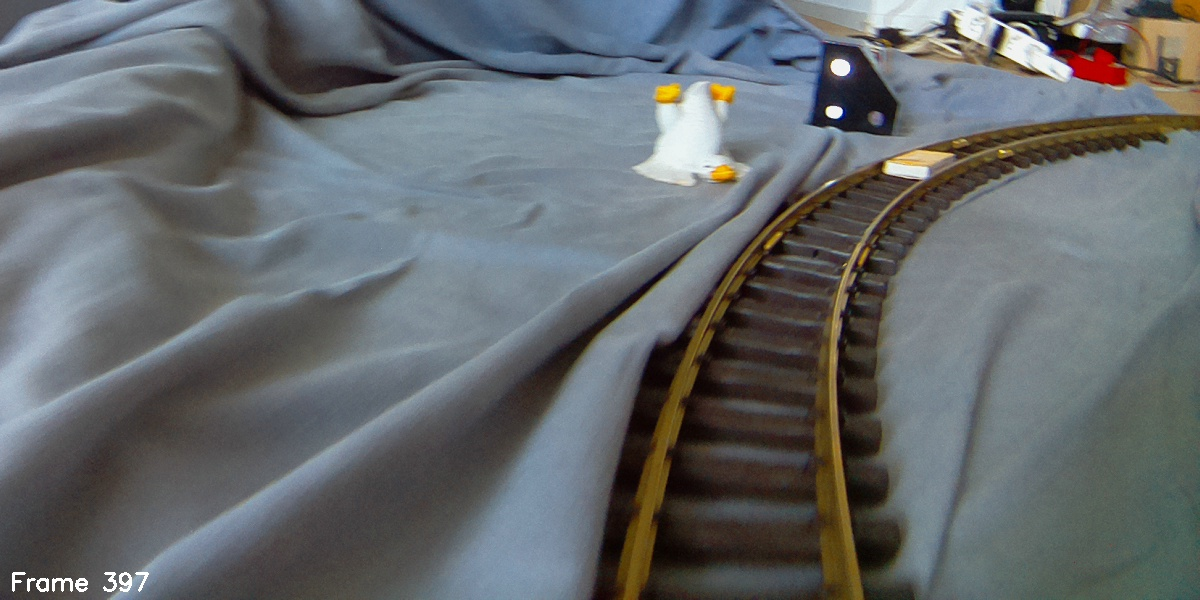Ente: (636, 79, 754, 193)
Fahrt: (804, 37, 900, 140)
